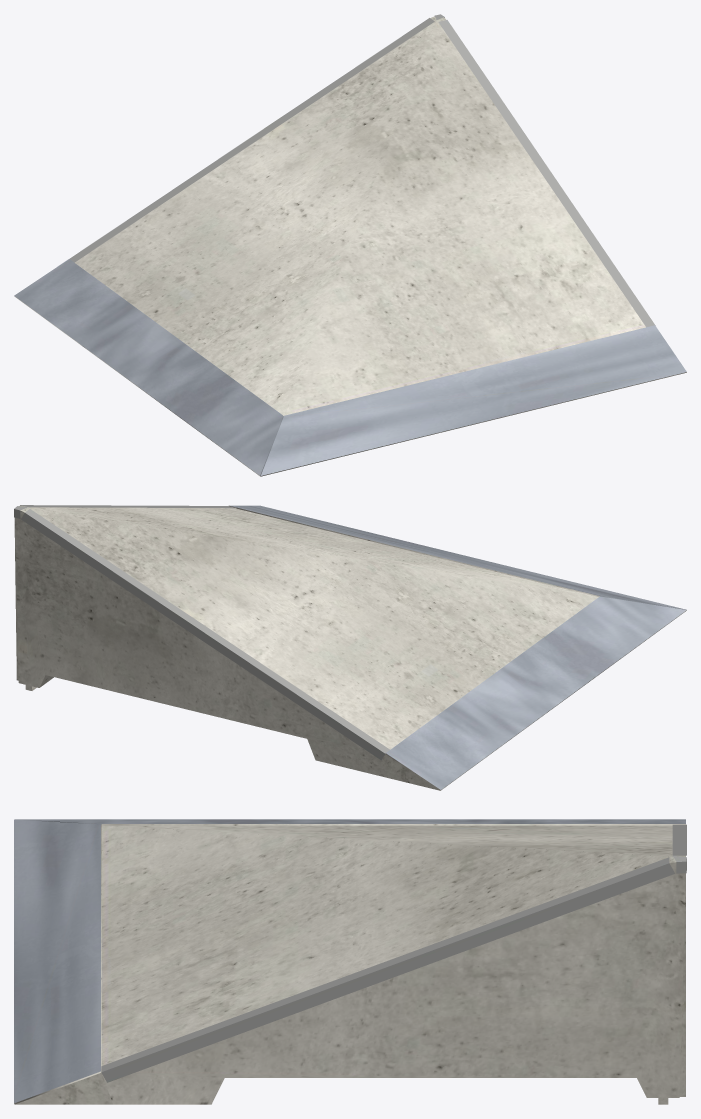
The model's file is hip-75.gltf.
3 renders of one model, top to bottom at view 1: azimuth 30°, elevation 25°; view 2: azimuth 150°, elevation 25°; view 3: azimuth 270°, elevation 25°, orthographic. The views are drawn at different scales.
Parts seen in each view (by area): view 1: SK0849_HIP-75.001; view 2: SK0849_HIP-75.001; view 3: SK0849_HIP-75.001.
Part boxes in pixels (x1,y1,x2,y2): SK0849_HIP-75.001: [14, 14, 686, 476]; SK0849_HIP-75.001: [14, 505, 686, 790]; SK0849_HIP-75.001: [14, 819, 686, 1104].
Size of the model in its own units: 1.83 by 0.73 by 1.83.
